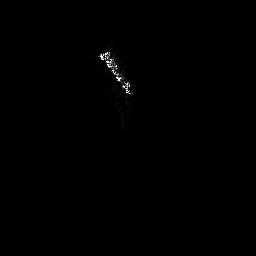ship: (96, 46, 137, 104)
